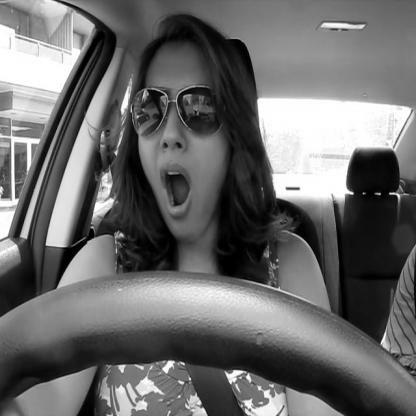seatbelt: (88, 4, 279, 416)
